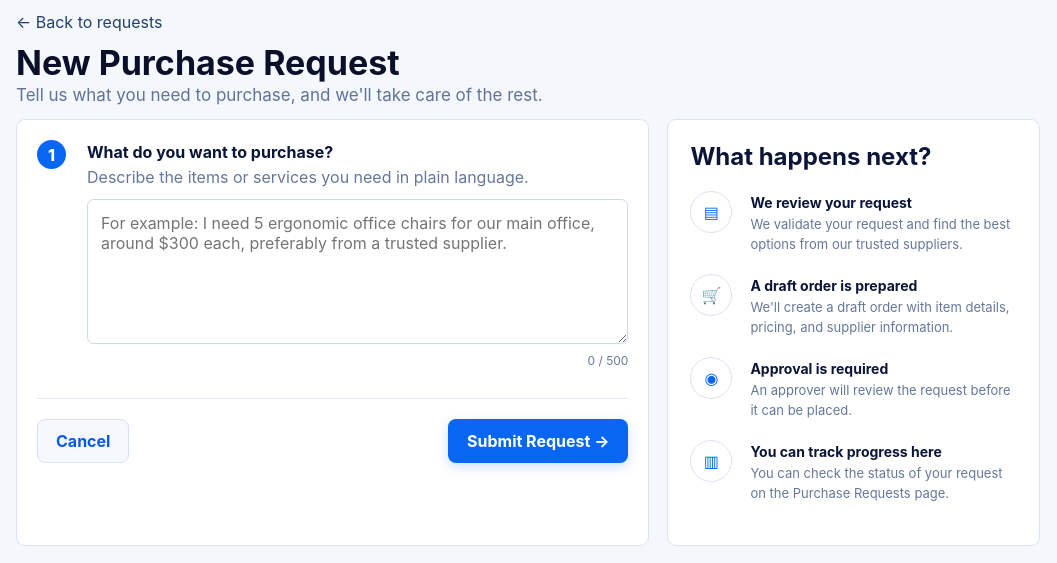
Test: NewPurchaseRequest › validates plain-language request text
Replace the text in the text box named "What do you want to purchase?" with "laptop" at (358, 272), box x1=87 y1=199 x2=628 y2=344
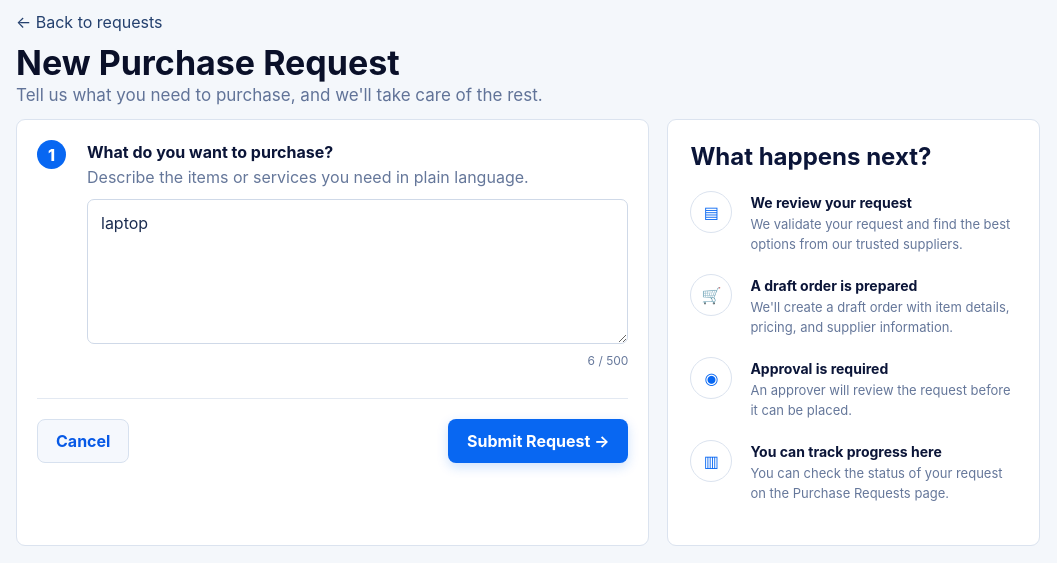
Click the button "Submit Request →".
click(538, 441)  # box x1=448 y1=419 x2=628 y2=463
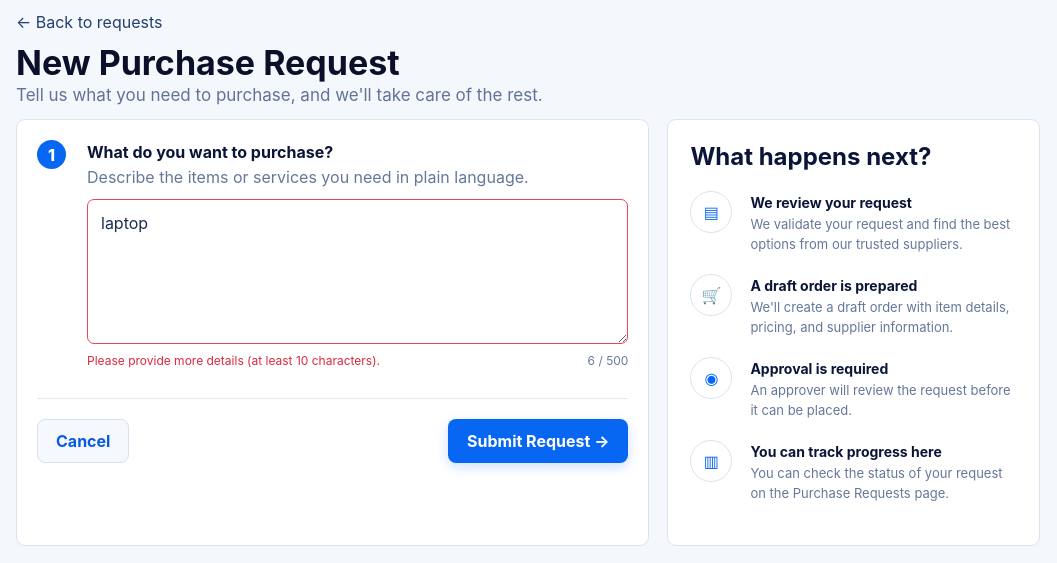
Expected: the message shows "Please provide more details", x1=87 y1=353 x2=380 y2=368
